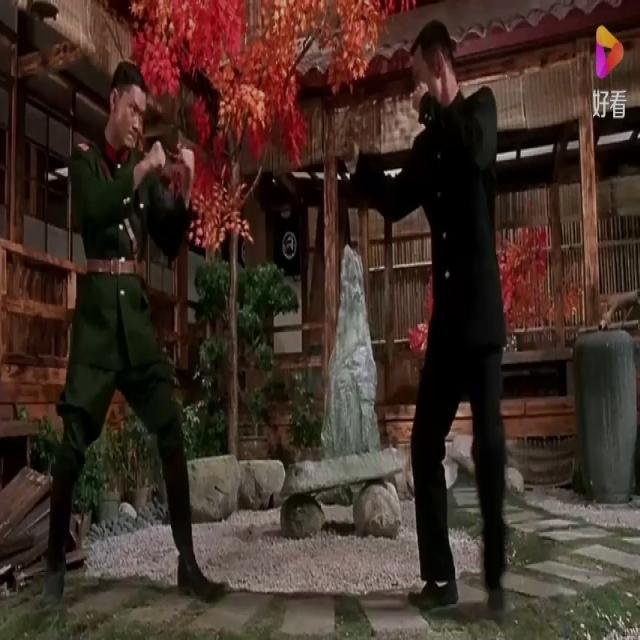fight: (43, 16, 506, 598)
